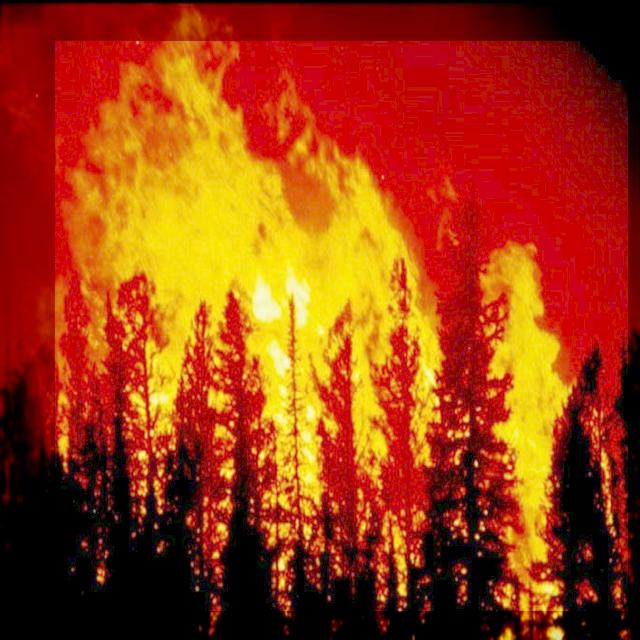Fire: (55, 41, 628, 611)
